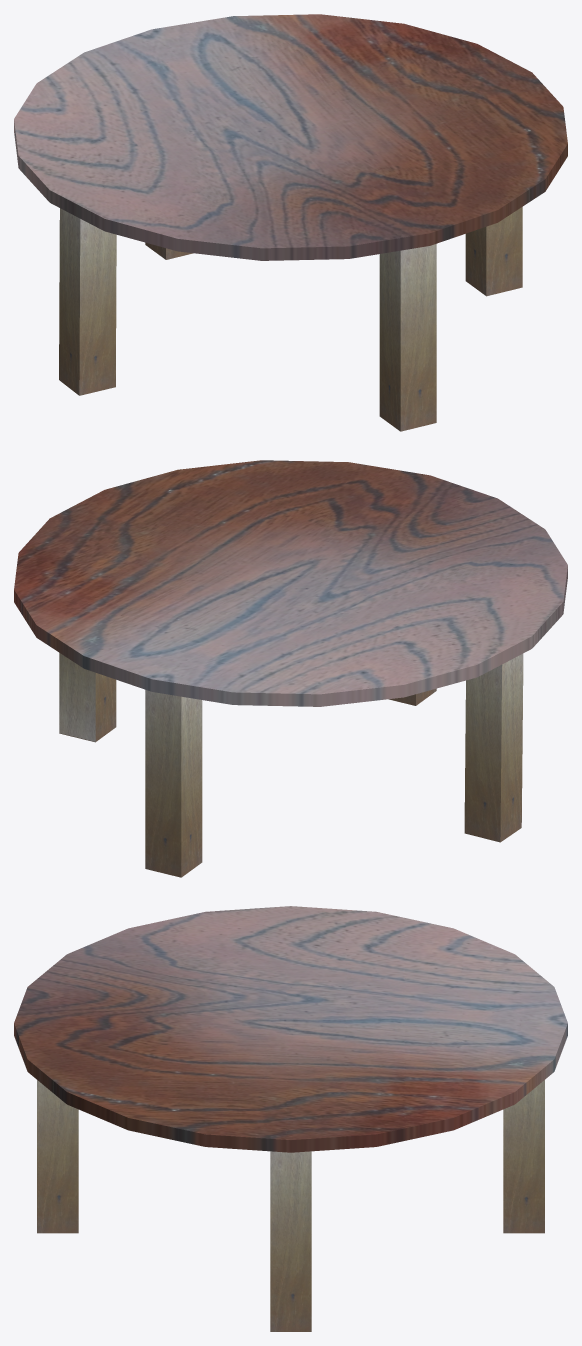
File: Table.fbx
The picture shows the model from 3 angles, top to bottom: view 1: azimuth 30°, elevation 25°; view 2: azimuth 150°, elevation 25°; view 3: azimuth 270°, elevation 25°; orthographic projection.
Visible parts, largest first — view 1: maruita, hasira4, hasira, hasira2; view 2: maruita, hasira3, hasira, hasira2; view 3: maruita, hasira2, hasira3, hasira4.
Boxes of the visible parts, x1,y1,x2,y2 form: maruita: [14, 14, 567, 260]; hasira4: [379, 244, 436, 431]; hasira: [59, 208, 116, 395]; hasira2: [465, 207, 522, 296]; maruita: [14, 460, 567, 706]; hasira3: [145, 690, 202, 877]; hasira: [464, 654, 523, 842]; hasira2: [59, 653, 116, 742]; maruita: [14, 906, 567, 1152]; hasira2: [270, 1151, 311, 1331]; hasira3: [503, 1080, 544, 1233]; hasira4: [37, 1080, 78, 1233].
Bounding box in the file's own units: 800 × 323 × 800.
Materials: 1 (1 with a texture image).
